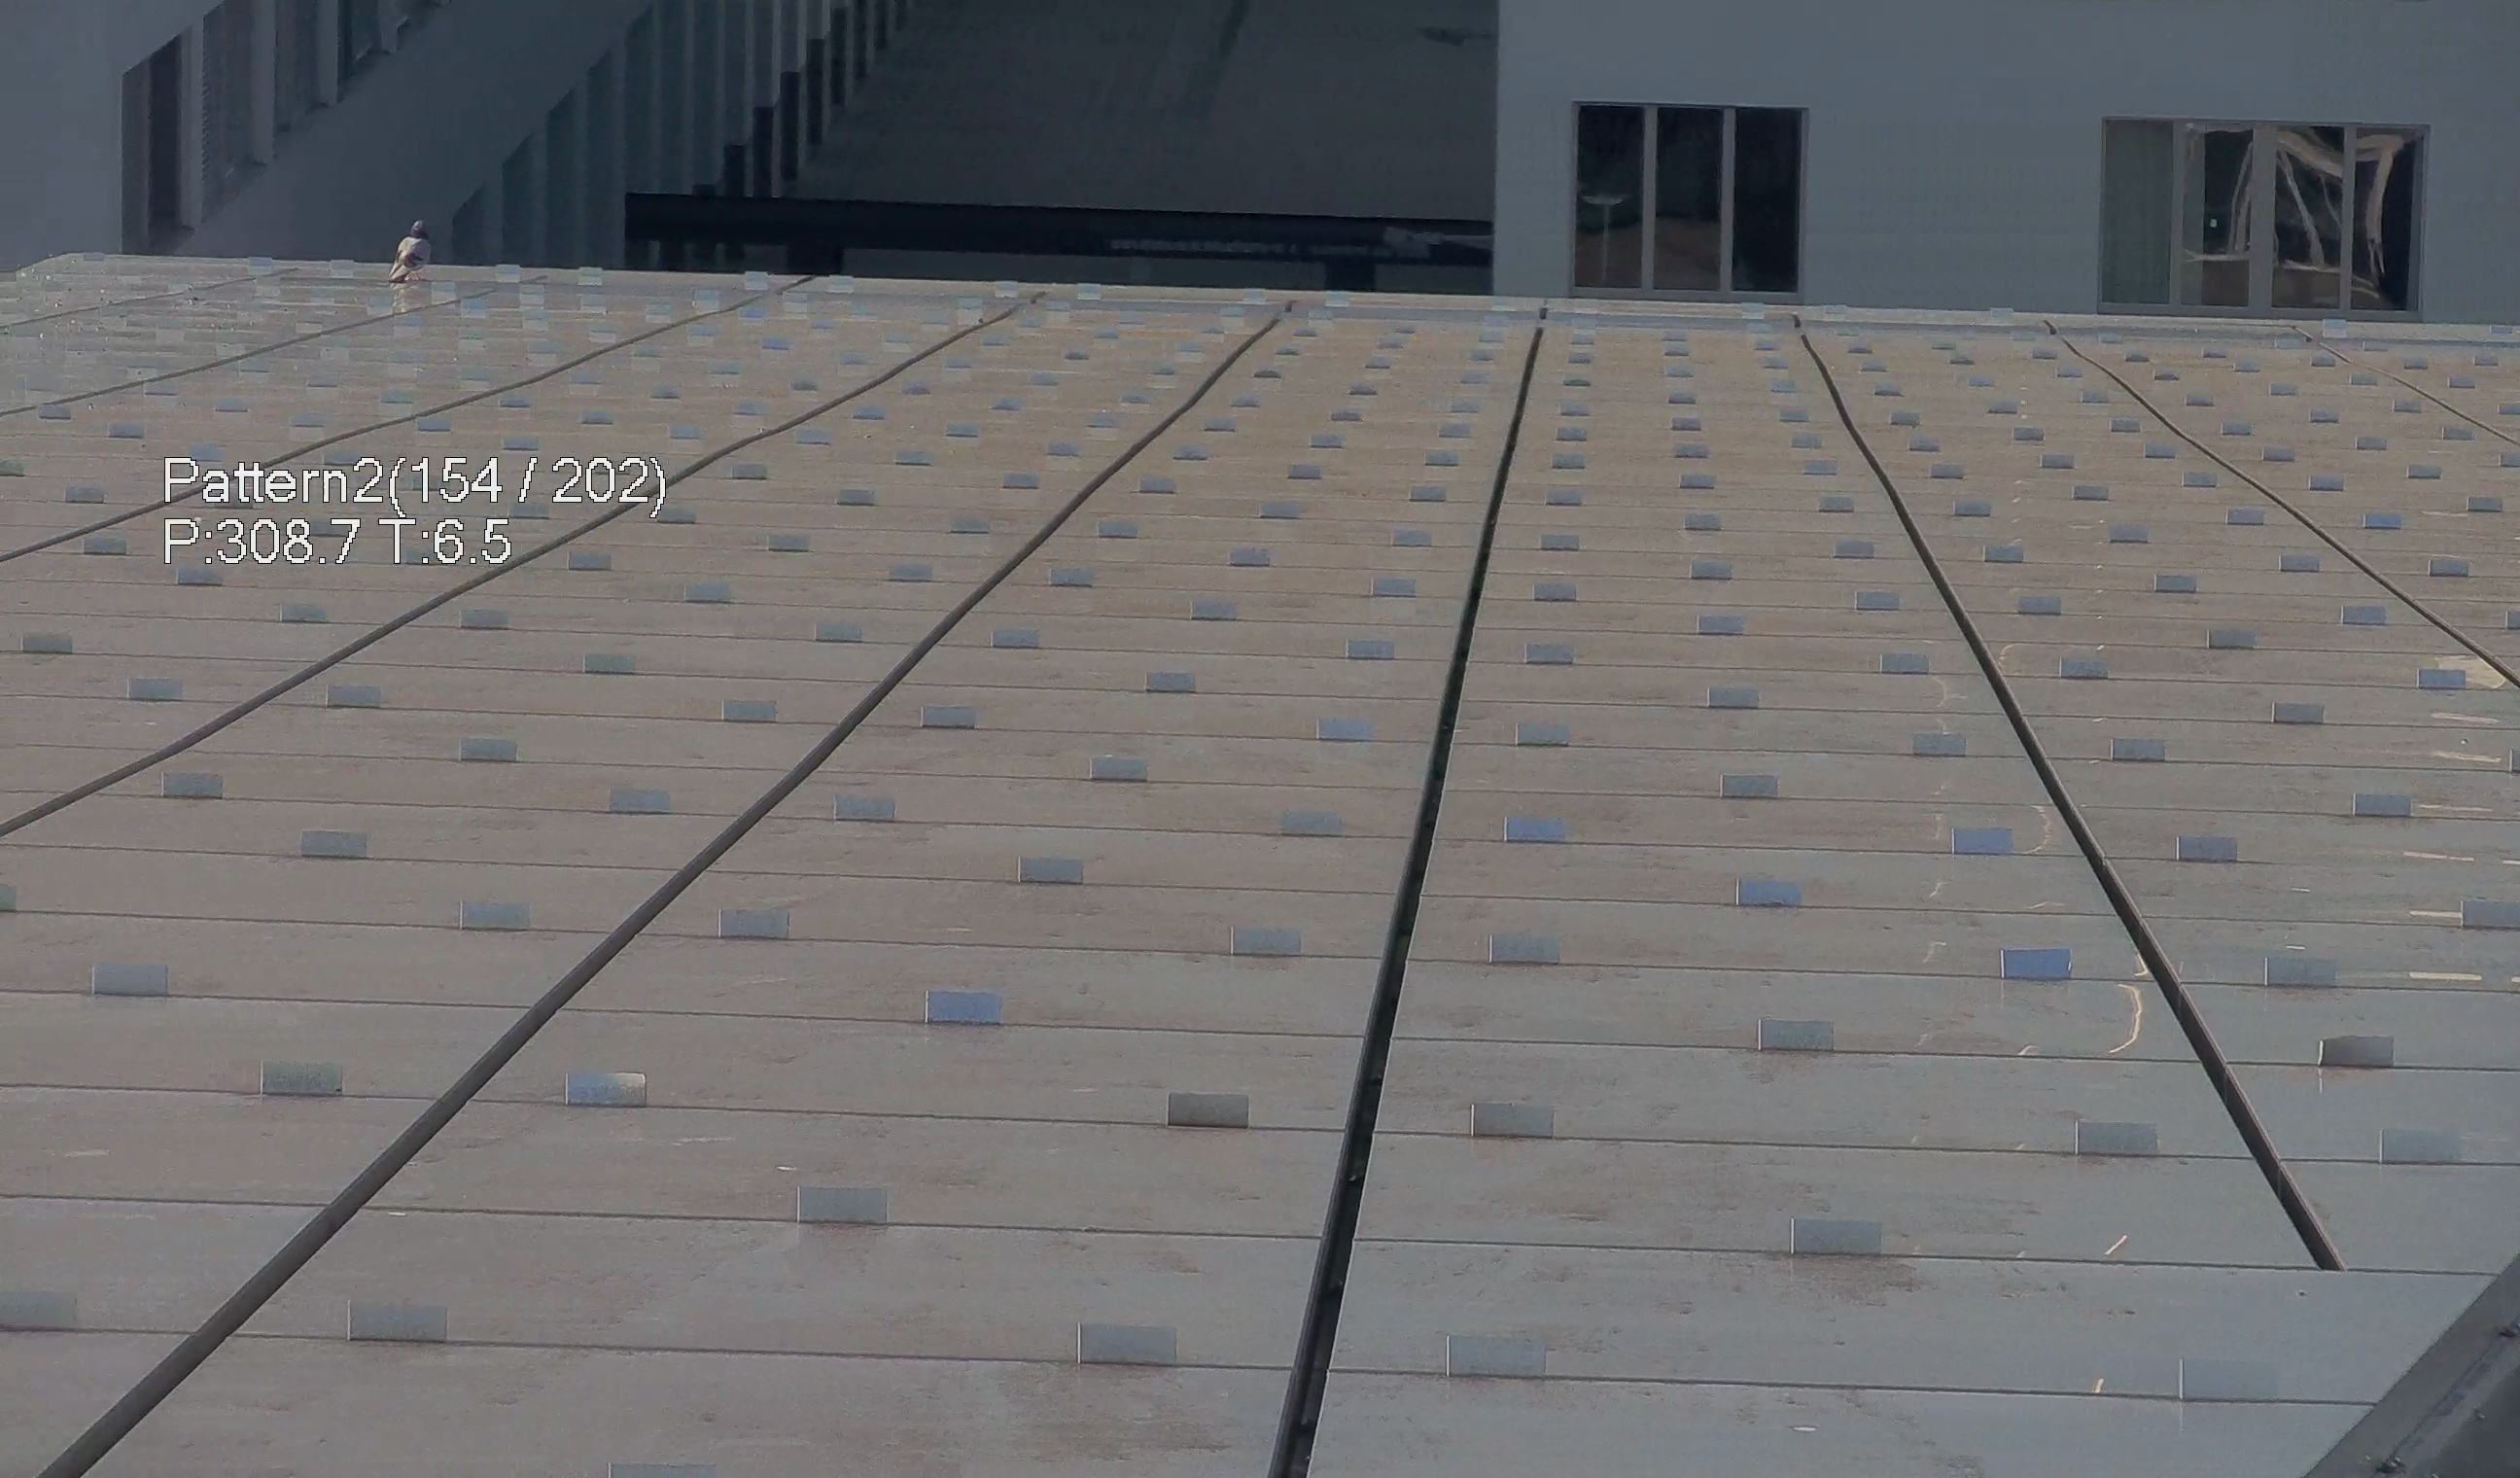Pigeon: (383, 211, 434, 299)
